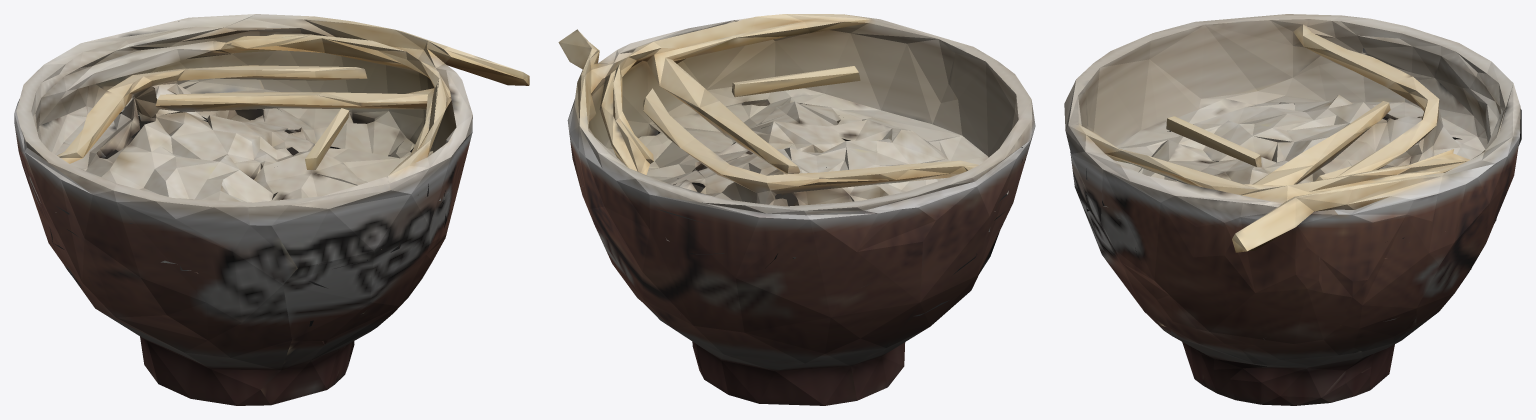
File: ramen.glb
The picture shows the model from 3 angles, left to right: view 1: azimuth 30°, elevation 25°; view 2: azimuth 150°, elevation 25°; view 3: azimuth 270°, elevation 25°; orthographic projection.
Visible parts, largest first — view 1: world; view 2: world; view 3: world.
Boxes of the visible parts, <box> form: world: <box>14,14,529,405</box>; world: <box>558,14,1035,405</box>; world: <box>1064,14,1521,405</box>.
Size of the model in its own units: 0.9972 by 0.5501 by 0.8526.
1 material, 1 textured.
